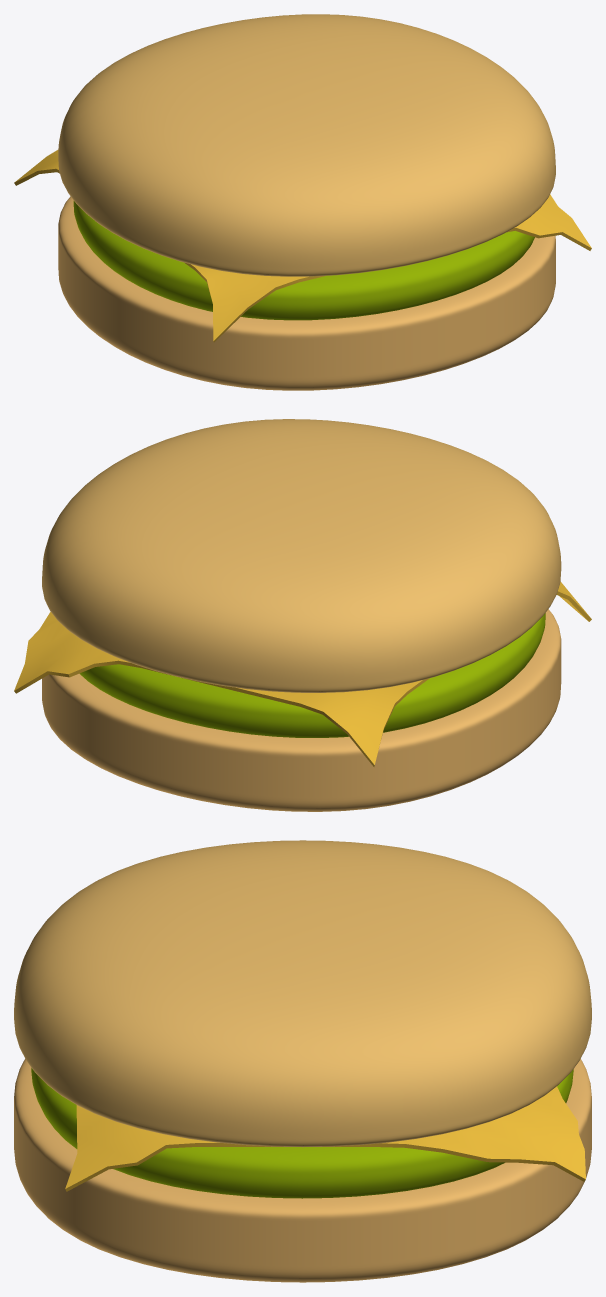
Rendered from veggieburger.glb.
3 views of the same model, one above another, from view 1: azimuth 30°, elevation 25°; view 2: azimuth 150°, elevation 25°; view 3: azimuth 270°, elevation 25° (orthographic). The views are drawn at different scales.
Visible parts, largest first — view 1: Cube.002, Cube, Cube.001, Plane; view 2: Cube.002, Cube, Cube.001, Plane; view 3: Cube.002, Cube, Cube.001, Plane.
Part boxes in pixels (x1,y1,x2,y2): Cube.002: [58, 14, 555, 276]; Cube: [58, 196, 555, 390]; Cube.001: [73, 201, 534, 320]; Plane: [14, 150, 591, 342]; Cube.002: [42, 419, 561, 692]; Cube: [42, 609, 561, 811]; Cube.001: [79, 613, 545, 737]; Plane: [14, 582, 591, 766]; Cube.002: [14, 840, 591, 1147]; Cube: [14, 1059, 591, 1282]; Cube.001: [31, 1068, 573, 1198]; Plane: [65, 1086, 585, 1191].
Size of the model in its own units: 9.28 by 4.72 by 9.28.
